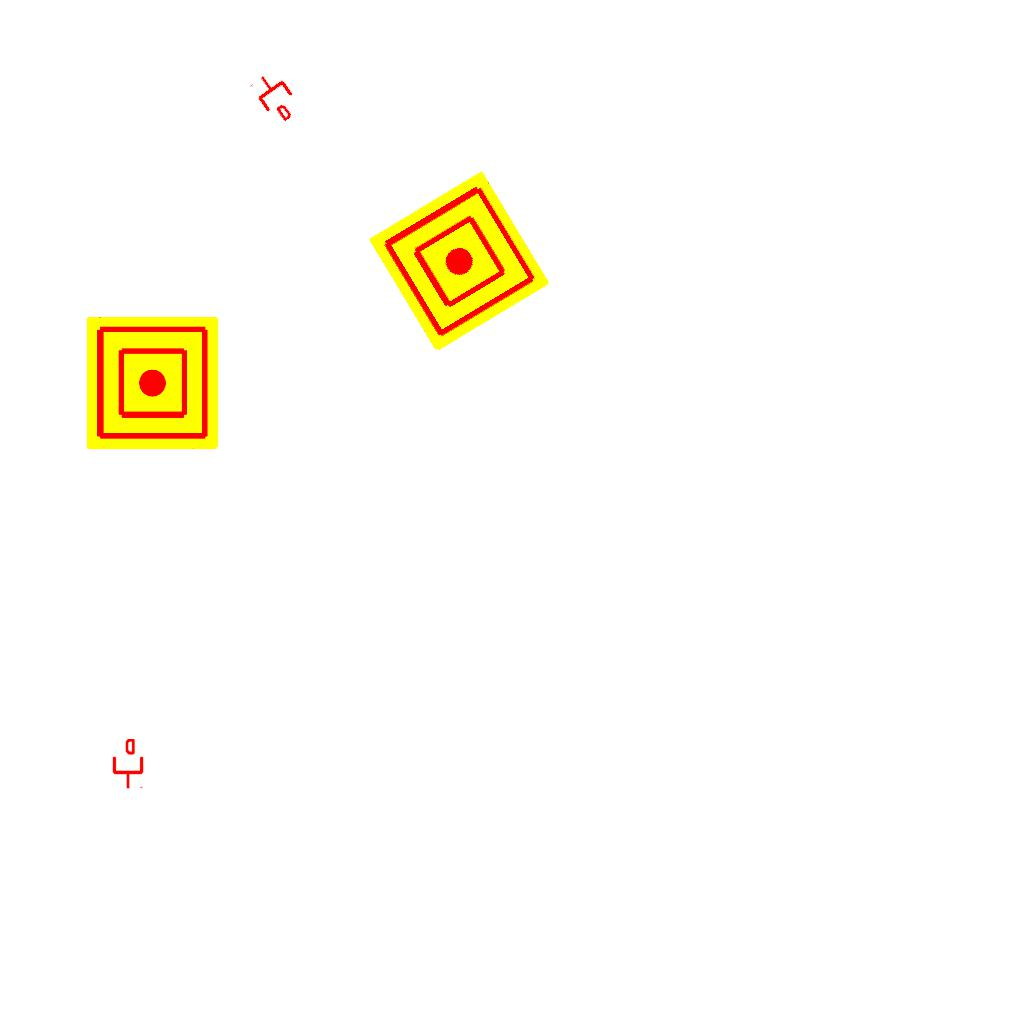Datenanschluss_einfach: (247, 66, 305, 128), (111, 739, 145, 789)
NAM-Nichtautomatischer_Melder: (368, 170, 550, 352), (86, 317, 218, 449)
